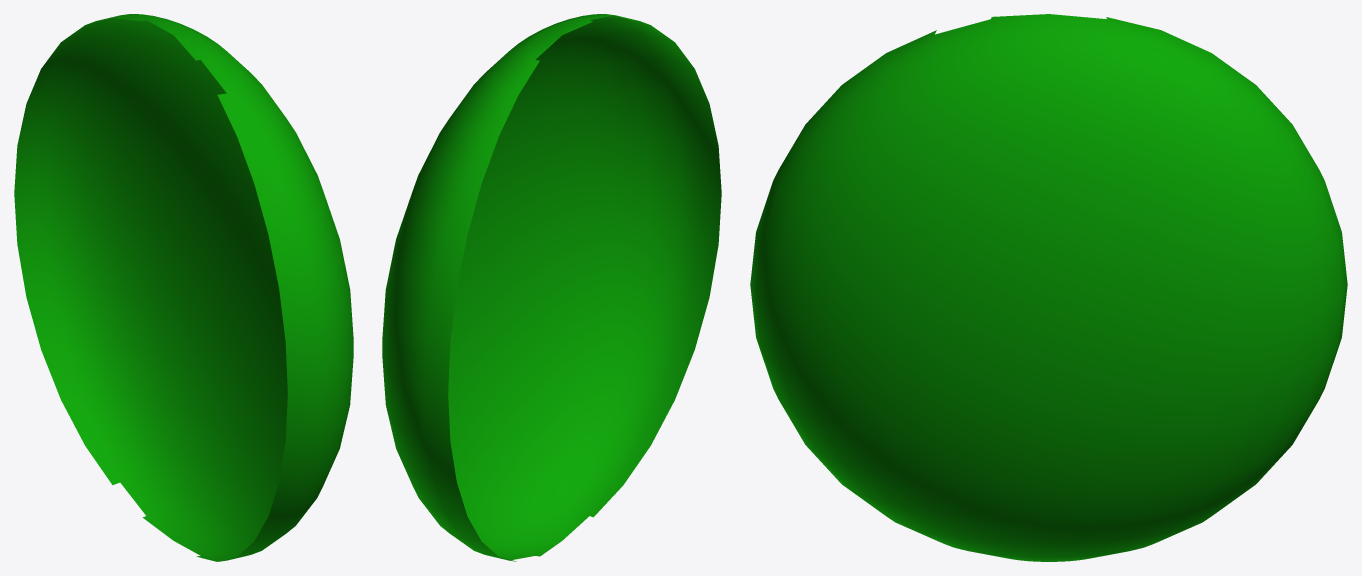
The model's file is verde(semaforo).fbx.
The picture shows the model from 3 angles, left to right: view 1: azimuth 30°, elevation 25°; view 2: azimuth 150°, elevation 25°; view 3: azimuth 270°, elevation 25°; orthographic projection. The views are drawn at different scales.
Parts seen in each view (by area): view 1: Cube.006; view 2: Cube.006; view 3: Cube.006.
Part boxes in pixels (x1,y1,x2,y2): Cube.006: (14,14,353,561); Cube.006: (382,14,721,561); Cube.006: (750,14,1347,561).
Size of the model in its own units: 1.58 by 5.54 by 5.54.
1 material, 1 textured.
